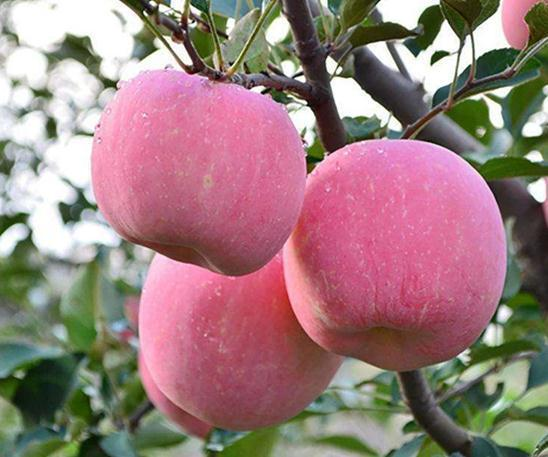apple: (279, 138, 510, 370), (90, 68, 304, 275), (133, 251, 339, 425)
